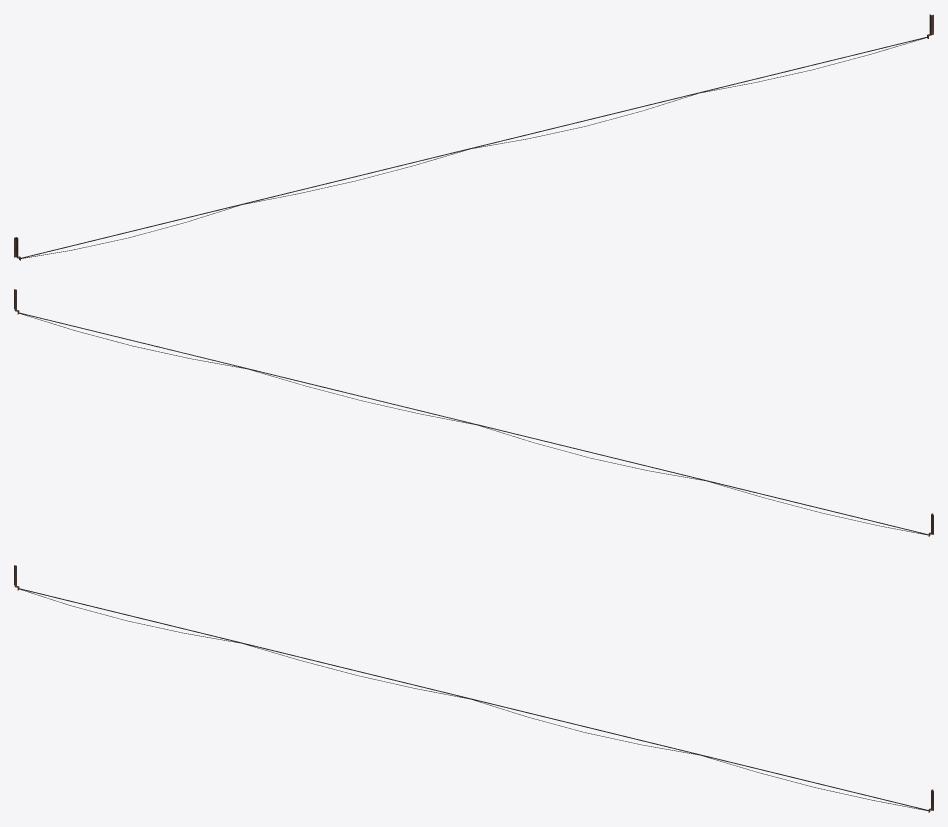
Rendered from CableRail_Btm.fbx.
3 renders of one model, top to bottom at view 1: azimuth 30°, elevation 25°; view 2: azimuth 150°, elevation 25°; view 3: azimuth 330°, elevation 25°, orthographic.
Visible parts, largest first — view 1: CableRail_Btm; view 2: CableRail_Btm; view 3: CableRail_Btm.
Boxes of the visible parts, x1=… form: CableRail_Btm: x1=14, y1=14, x2=933, y2=260; CableRail_Btm: x1=14, y1=289, x2=933, y2=536; CableRail_Btm: x1=14, y1=565, x2=933, y2=812.
Size of the model in its own units: 798 by 22.34 by 2.81.
Materials: 1 (1 with a texture image).
